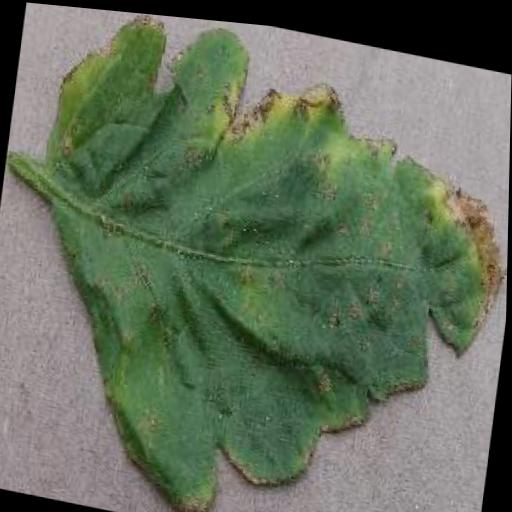Bacterial Spot: (0, 1, 512, 512)
